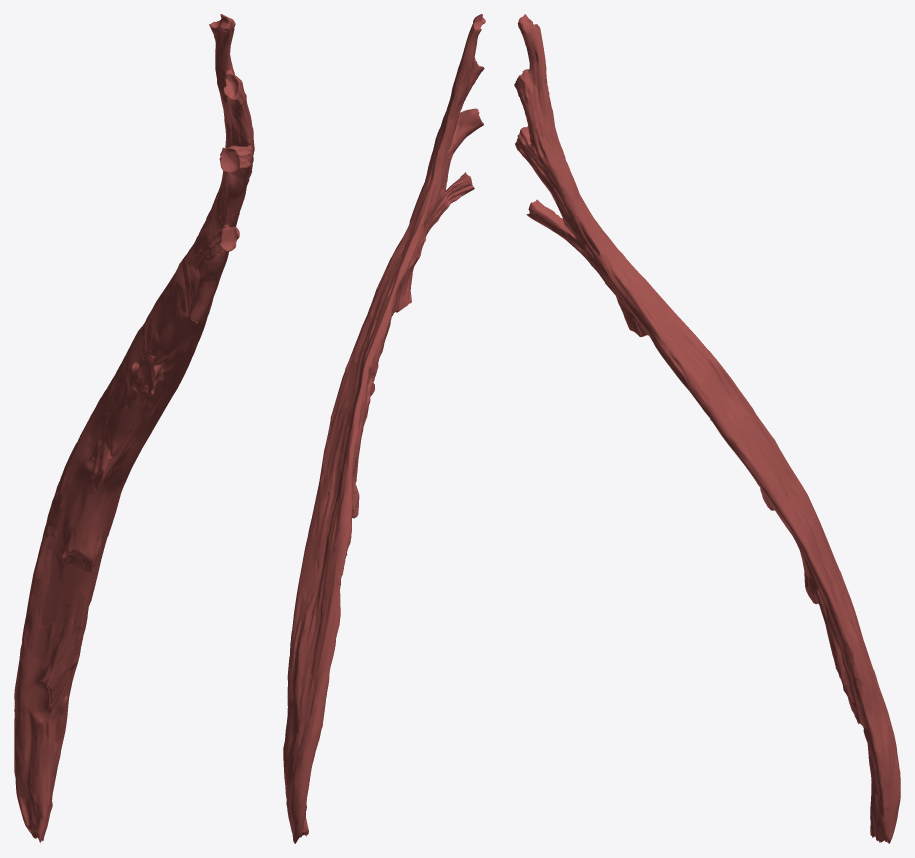
The model's file is FMA22758.glb.
3 renders of one model, left to right at view 1: azimuth 30°, elevation 25°; view 2: azimuth 150°, elevation 25°; view 3: azimuth 270°, elevation 25°, orthographic. The views are drawn at different scales.
Visible parts, largest first — view 1: FMA22758; view 2: FMA22758; view 3: FMA22758.
Boxes of the visible parts, x1=… form: FMA22758: x1=14, y1=14, x2=254, y2=843; FMA22758: x1=283, y1=14, x2=485, y2=843; FMA22758: x1=514, y1=14, x2=900, y2=843.
Bounding box in the file's own units: 0.0168 × 0.1831 × 0.0787.
